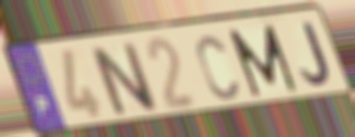2: (146, 35, 199, 114)
4: (59, 46, 105, 123)
C: (194, 33, 242, 103)
J: (299, 20, 333, 88)
M: (225, 22, 301, 100)
N: (86, 40, 163, 119)
